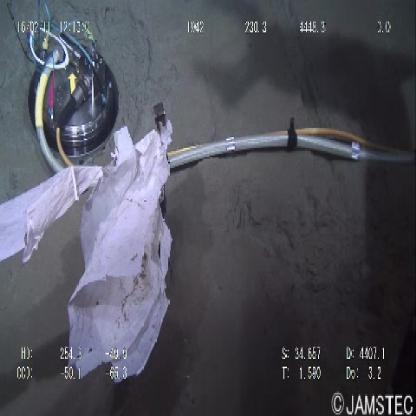Rov: (21, 11, 119, 156)
Rác: (1, 125, 168, 376)
